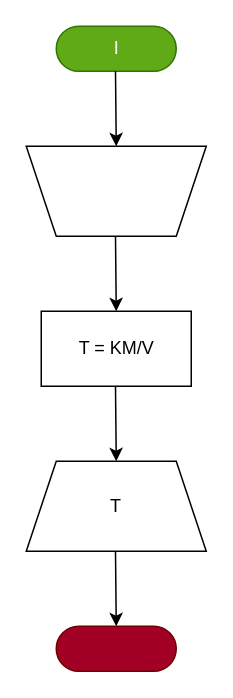
Some shapes in this 233 by 698 pixel diagram are drawn without their labels. Here are the shapes that lost their labels. From the top down, the centre of each, then its label:
At point 115,190: "KM,V".
At point 115,648: "FIN".
